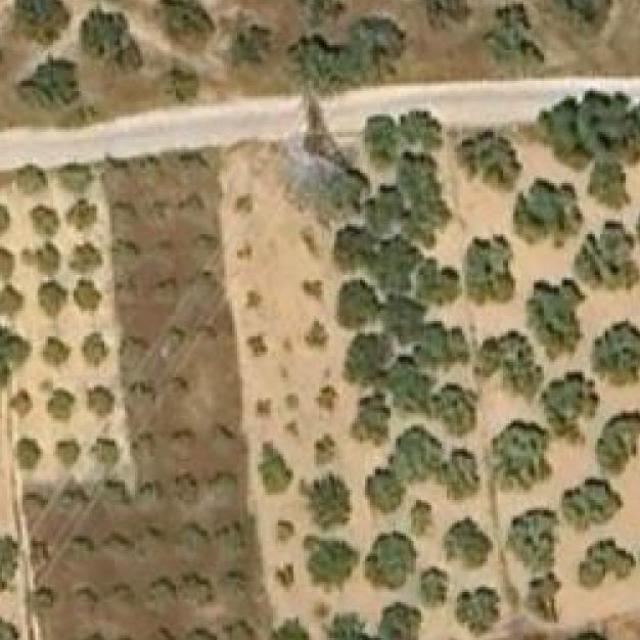Tree: (288, 17, 406, 84), (508, 510, 562, 623), (474, 329, 544, 404), (513, 176, 583, 250), (574, 220, 640, 290), (491, 420, 555, 490), (585, 88, 640, 168), (539, 372, 600, 444), (457, 130, 521, 196), (528, 280, 584, 352), (539, 99, 595, 171), (82, 9, 143, 74), (12, 56, 79, 110), (145, 0, 214, 52), (590, 316, 640, 387), (484, 4, 544, 63), (365, 528, 419, 590), (467, 237, 513, 304), (390, 427, 444, 482), (539, 0, 613, 40), (577, 538, 636, 587), (595, 413, 640, 477), (442, 516, 492, 570), (373, 236, 417, 296), (309, 472, 355, 528), (304, 536, 358, 582), (570, 478, 624, 524), (15, 0, 70, 45), (388, 360, 434, 411), (0, 324, 31, 399), (455, 587, 501, 636), (419, 324, 465, 370), (365, 188, 404, 242), (442, 449, 481, 503), (422, 0, 476, 35), (348, 332, 383, 386), (398, 152, 439, 198), (436, 386, 476, 432), (332, 227, 373, 271), (230, 24, 271, 68), (367, 467, 406, 513), (380, 294, 419, 339), (406, 198, 445, 242), (416, 260, 460, 298), (261, 443, 294, 492), (380, 599, 418, 640), (365, 116, 396, 166), (340, 283, 373, 329), (398, 111, 439, 148), (590, 166, 624, 207), (296, 0, 348, 25), (0, 533, 20, 598), (357, 392, 385, 438), (421, 566, 450, 610), (38, 280, 68, 321), (69, 242, 102, 276), (55, 165, 94, 193), (81, 331, 109, 370), (120, 332, 153, 365), (67, 198, 97, 232), (84, 386, 114, 419), (205, 419, 235, 452), (43, 336, 72, 370), (109, 201, 140, 232), (48, 388, 77, 421), (74, 280, 102, 314), (0, 285, 26, 321), (169, 71, 199, 101), (304, 321, 329, 357), (179, 150, 209, 179), (17, 165, 48, 193), (33, 244, 61, 275), (125, 427, 156, 455), (268, 619, 309, 640), (30, 207, 58, 237), (166, 426, 190, 461), (97, 155, 128, 182), (106, 587, 135, 615), (161, 324, 187, 355), (33, 587, 59, 618), (178, 579, 206, 607), (15, 439, 41, 469), (314, 434, 337, 467), (191, 322, 217, 350), (212, 474, 237, 503), (411, 500, 431, 536), (148, 582, 172, 612), (125, 382, 155, 406), (245, 331, 269, 360), (10, 390, 34, 418), (135, 488, 164, 511), (72, 585, 95, 614), (92, 439, 118, 464), (179, 528, 202, 556), (28, 541, 50, 570), (56, 442, 80, 467), (138, 531, 158, 561), (99, 485, 125, 508), (317, 384, 337, 413), (174, 483, 197, 508), (72, 538, 92, 566), (302, 280, 325, 304), (104, 536, 128, 559), (275, 561, 293, 590), (0, 246, 14, 280), (244, 285, 263, 309), (275, 520, 293, 544), (0, 617, 17, 640), (255, 398, 273, 418), (22, 495, 43, 510), (0, 206, 10, 234)
